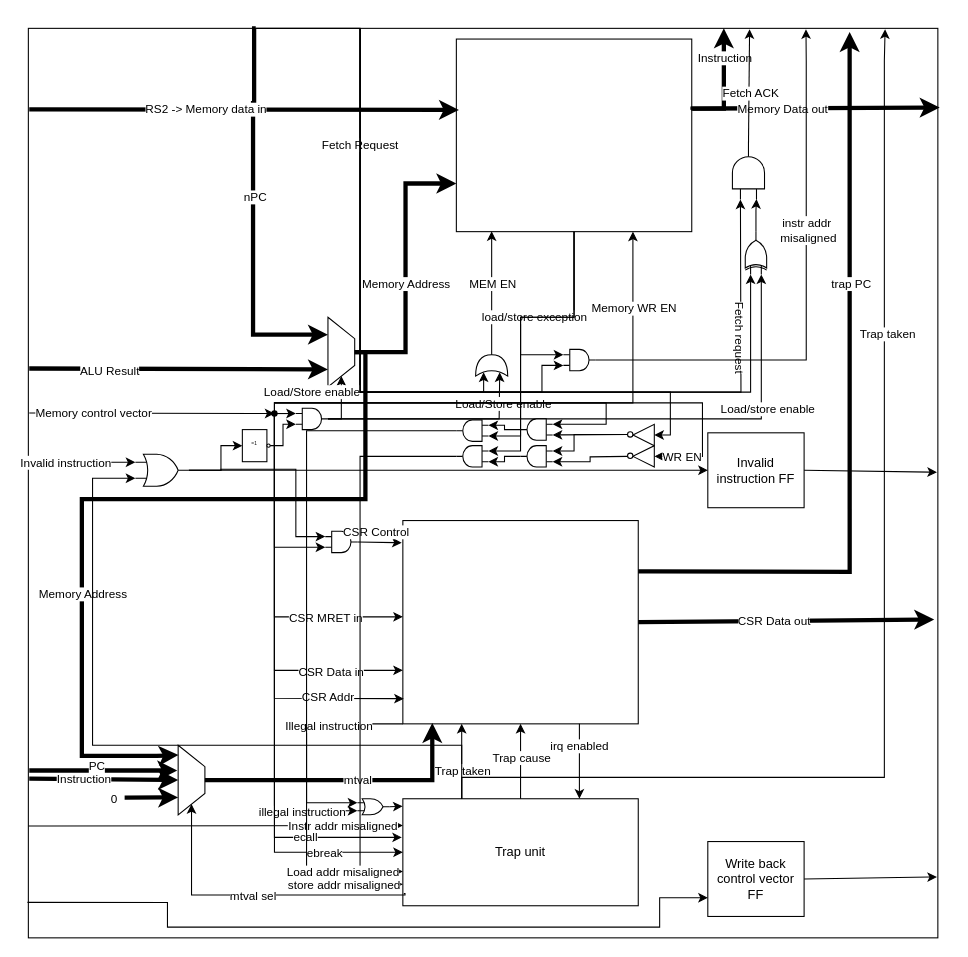
The diagram is 968 pixels wide and 957 high, and some of its shapes have lost their labels. The centre of each missing label's shape, as x and y in pixels:
"CSR Unit" goes at pixel 520 621.
"Load Store Unit" goes at pixel 573 135.
